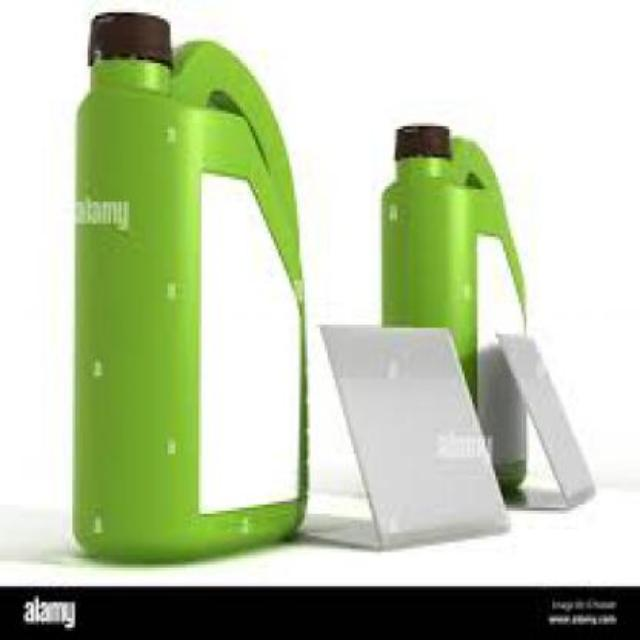chemical_plastic_gallon: (63, 3, 310, 564)
